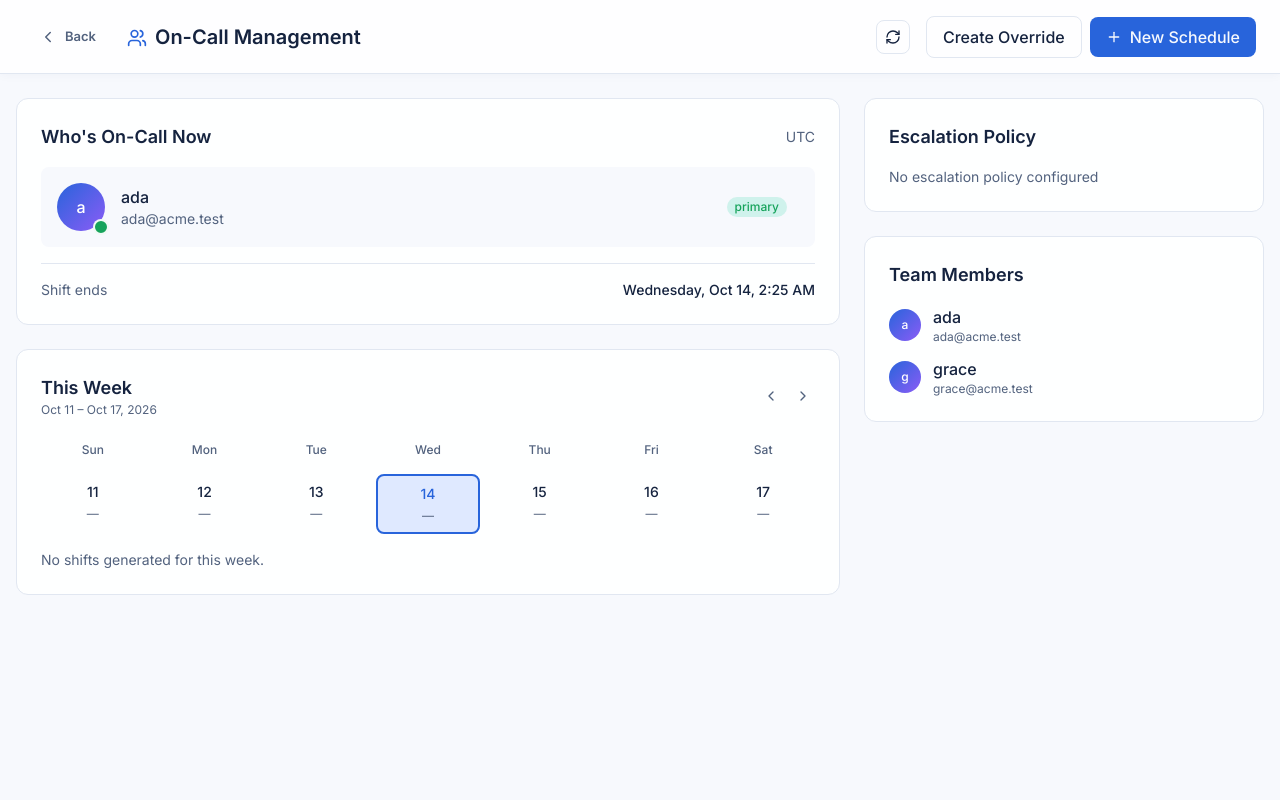
Test: OnCall week navigation › fetches the following week when the forward arrow is clicked
Expected: the heading "This Week" is shown, top-left (41, 377), bottom-right (132, 398)
Click the button named "Next week". click: (803, 396)
box: top-left (791, 384), bottom-right (815, 408)
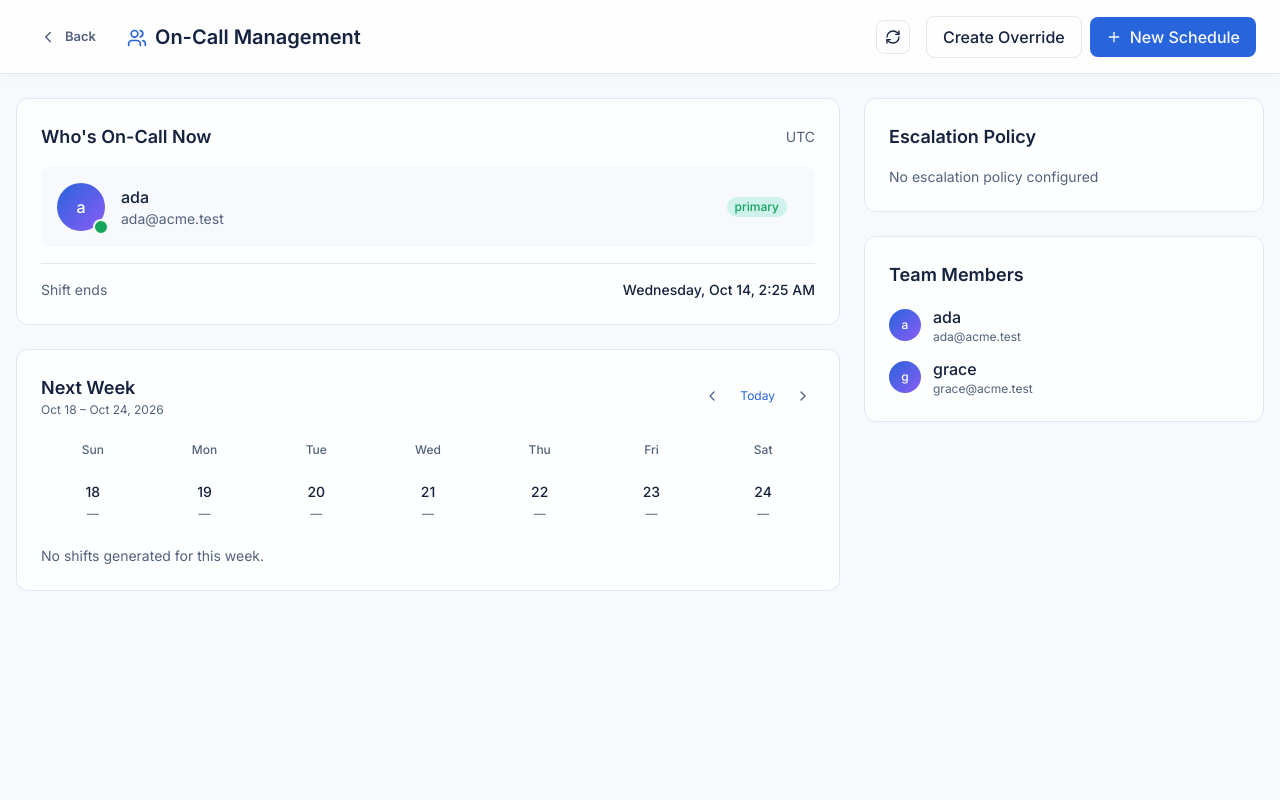
Expected: the heading "Next Week" is shown, top-left (41, 377), bottom-right (135, 398)
